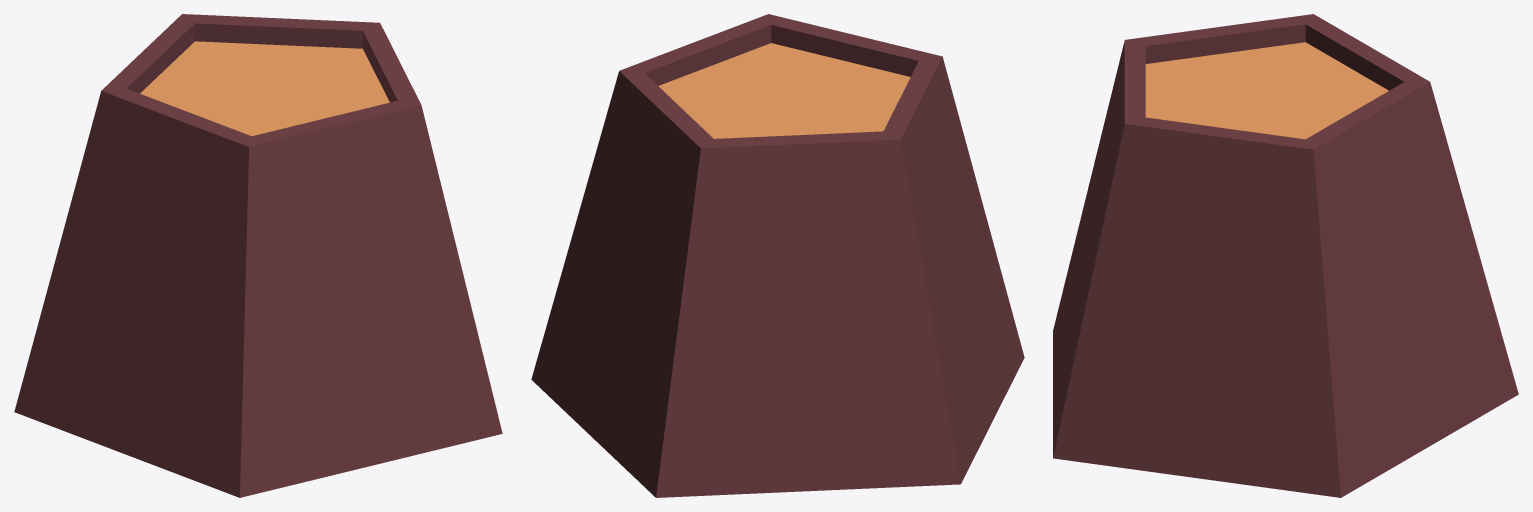
Rendered from log_3.fbx.
3 views of the same model, side by side, from view 1: azimuth 30°, elevation 25°; view 2: azimuth 150°, elevation 25°; view 3: azimuth 270°, elevation 25° (orthographic).
Visible parts, largest first — view 1: Cylinder; view 2: Cylinder; view 3: Cylinder.
Part boxes in pixels (box(x1,y1,x2,y2)): Cylinder: box(14, 14, 502, 497); Cylinder: box(531, 14, 1024, 497); Cylinder: box(1053, 14, 1518, 497).
Size of the model in its own units: 56.85 by 40.05 by 54.07.
